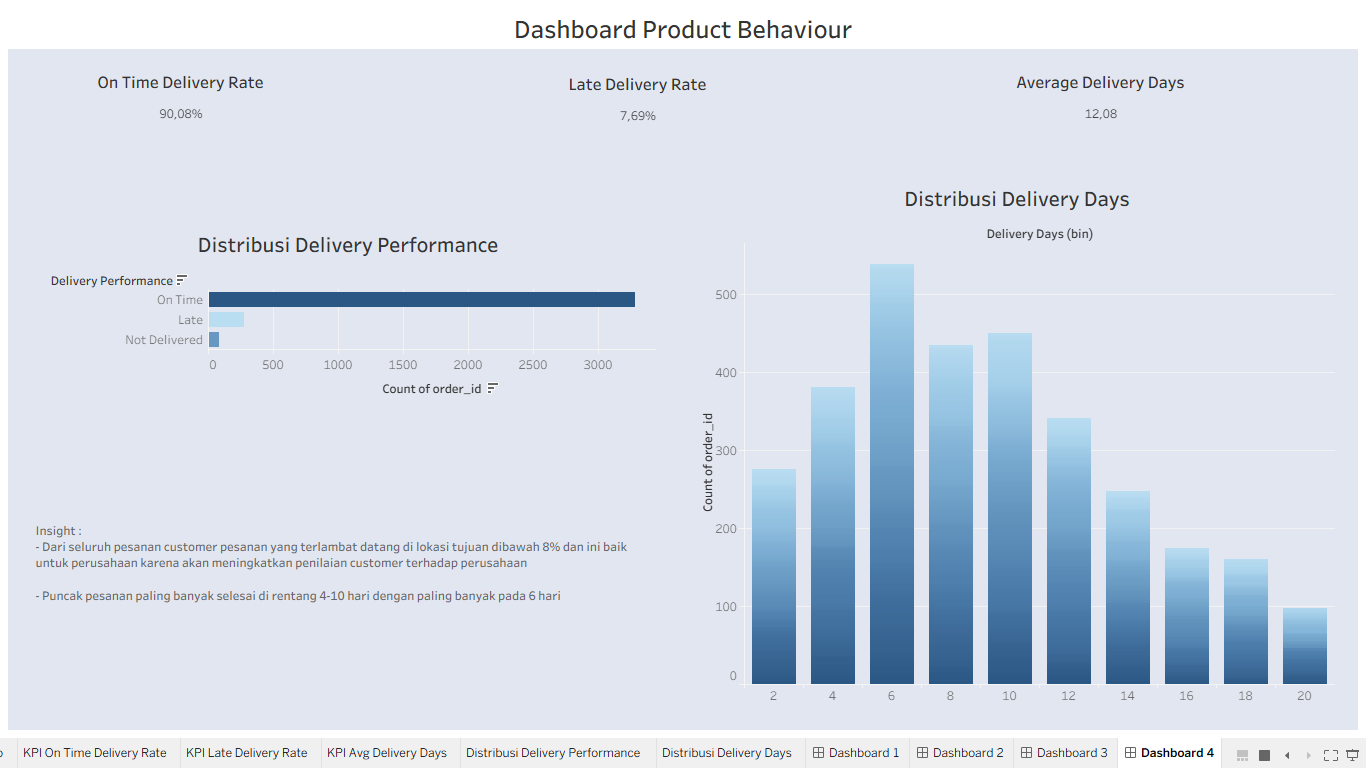

Layout of this report page (visuals, bound fields, positions):
{"tool":"tableau","page":{"name":"Dashboard 4","canvas":[1000,1000],"units":"permille","ordinal":3},"visuals":[{"type":"title","box":[6.9,13.5,986.1,69.2]},{"type":"worksheet","title":"KPI On Time Delivery Rate","mark":"Automatic","box":[39,91.2,238.1,101.4]},{"type":"worksheet","title":"KPI Avg Delivery Days","mark":"Automatic","box":[710.8,91.2,227.7,113.2]},{"type":"worksheet","title":"KPI Late Delivery Rate","mark":"Automatic","box":[387.9,92.9,201.7,98]},{"type":"worksheet","title":"Distribusi Delivery Days","mark":"Automatic","rows":["order_id"],"cols":["Delivery Days (bin)"],"box":[511.7,243.2,465.8,711.1]},{"type":"worksheet","title":"Distribusi Delivery Performance","mark":"Automatic","rows":["Delivery Performance"],"cols":["order_id"],"box":[29.4,305.7,451.1,339.5]},{"type":"text","box":[24.2,577.7,453.7,373.3]}]}

Visuals, with their boxes on the dashboard's canvas, which has no fixed pixel size, in thousandths of its width and height (x1, y1, x2, y2). These are canvas units, not pixel positions in the 1366x768 screenshot, which may show the page scaled, cropped or inside an application window:
title: bbox(7, 14, 993, 83)
"KPI On Time Delivery Rate" worksheet: bbox(39, 91, 277, 193)
"KPI Avg Delivery Days" worksheet: bbox(711, 91, 938, 204)
"KPI Late Delivery Rate" worksheet: bbox(388, 93, 590, 191)
"Distribusi Delivery Days" worksheet: bbox(512, 243, 978, 954)
"Distribusi Delivery Performance" worksheet: bbox(29, 306, 480, 645)
text: bbox(24, 578, 478, 951)
